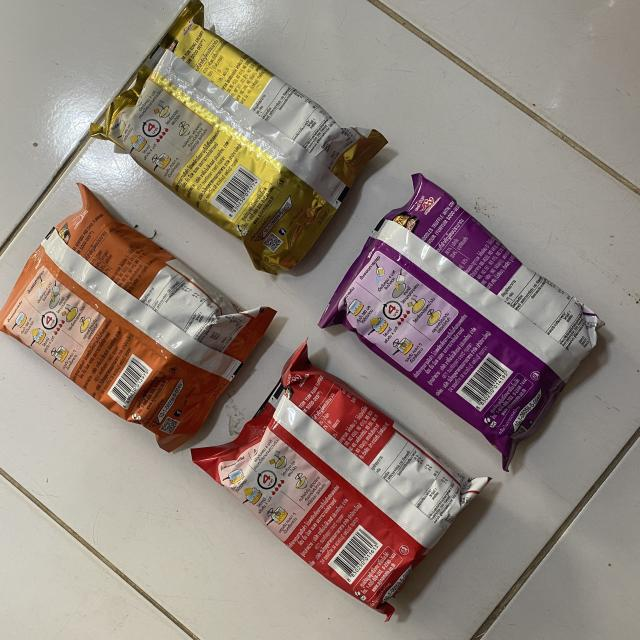plastik: (319, 173, 599, 470), (192, 342, 490, 620), (91, 0, 386, 274), (0, 184, 275, 452)
